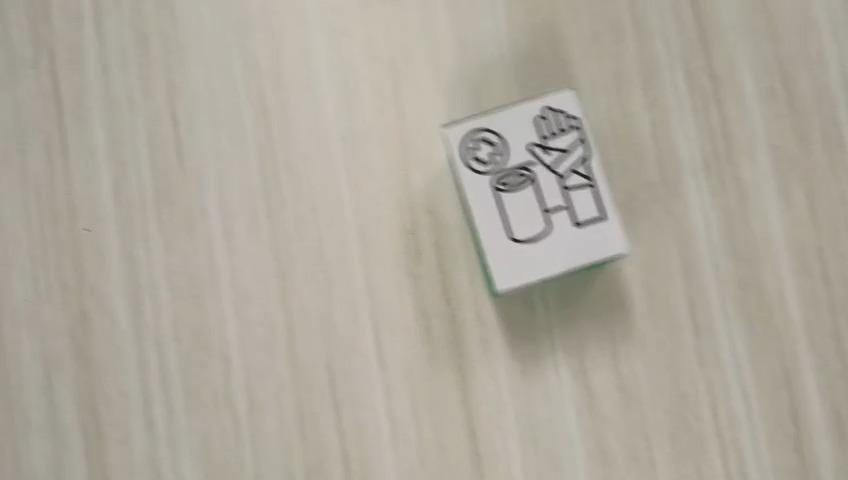Bandages: (438, 86, 631, 296)
